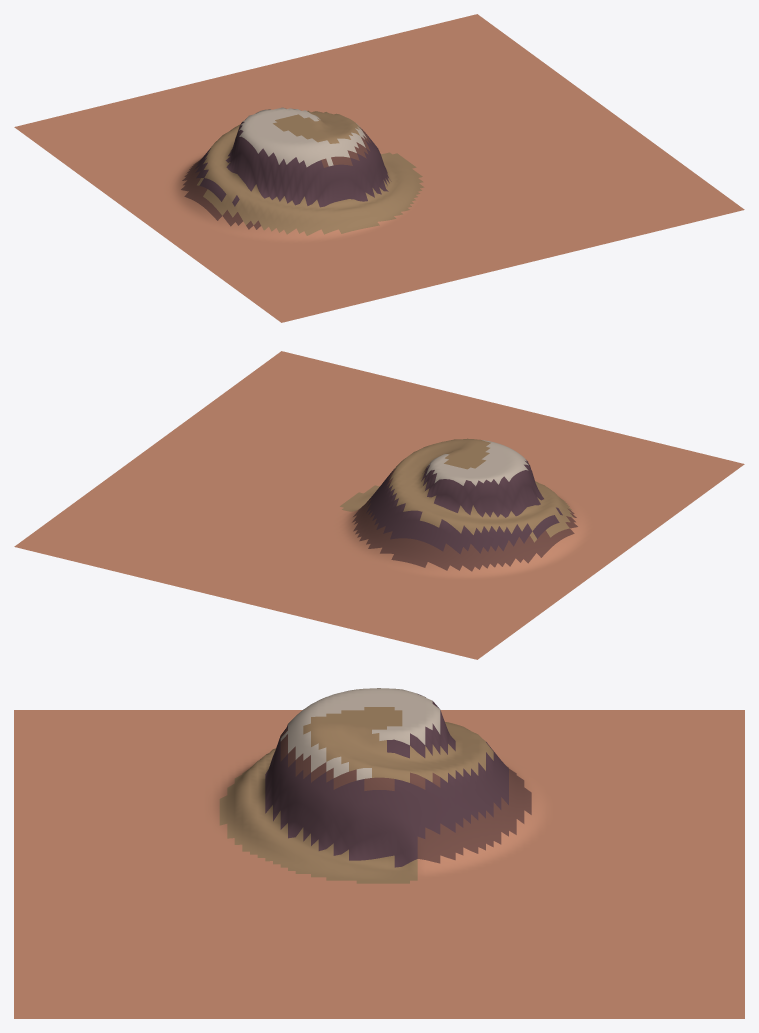
File: map_terrain.glb
3 views of the same model, one above another, from view 1: azimuth 30°, elevation 25°; view 2: azimuth 150°, elevation 25°; view 3: azimuth 270°, elevation 25° (orthographic). The views are drawn at different scales.
Visible parts, largest first — view 1: MAP_Terrain; view 2: MAP_Terrain; view 3: MAP_Terrain.
Part boxes in pixels (x1,y1,x2,y2): MAP_Terrain: [14, 14, 744, 322]; MAP_Terrain: [14, 351, 744, 659]; MAP_Terrain: [14, 688, 744, 1018].
Bounding box in the file's own units: 192 × 26 × 192.
